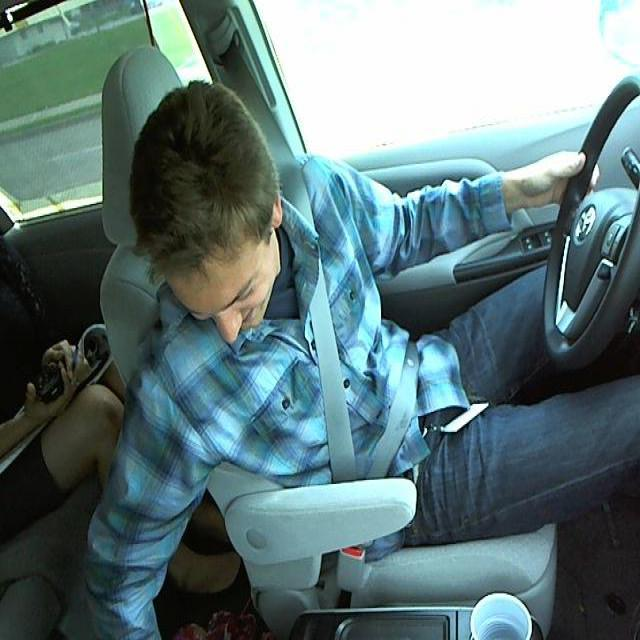seatbelt: (308, 286, 436, 502)
